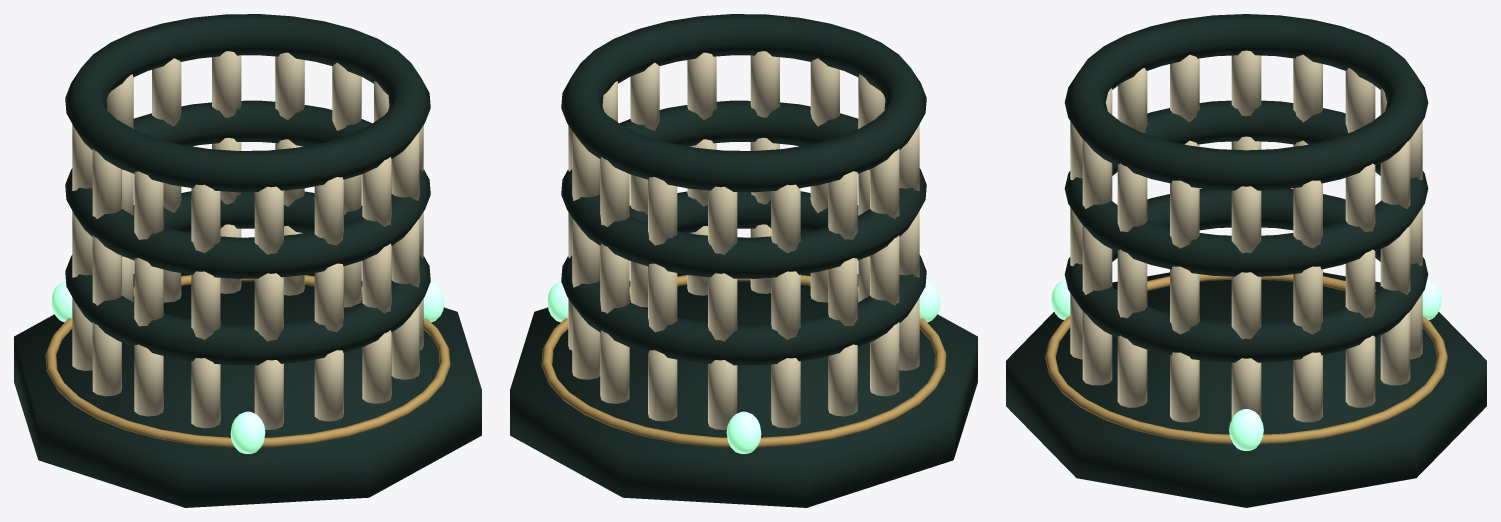
3 views of the same model, side by side, from view 1: azimuth 30°, elevation 25°; view 2: azimuth 150°, elevation 25°; view 3: azimuth 270°, elevation 25° (orthographic).
Visible parts, largest first — view 1: Hexagonal plinth, Colosseum tier.002, Colosseum tier.001, Colosseum tier, Inlaid rim, Arcade pier.010, Arcade pier.012, Arcade pier.009, Arcade pier.013, Arcade pier.011, Arcade pier.008, Arcade pier.027 (+29 smaller); view 2: Hexagonal plinth, Colosseum tier.002, Colosseum tier.001, Colosseum tier, Inlaid rim, Arcade pier.006, Arcade pier.004, Arcade pier.007, Arcade pier.003, Arcade pier.005, Arcade pier.008, Arcade pier.021 (+29 smaller); view 3: Hexagonal plinth, Colosseum tier.002, Colosseum tier.001, Colosseum tier, Inlaid rim, Arcade pier.001, Arcade pier.015, Arcade pier.002, Arcade pier.014, Arcade pier.032, Arcade pier.016, Arcade pier.003 (+28 smaller).
Boxes of the visible parts, x1,y1,x2,y2 form: Hexagonal plinth: (14, 273, 481, 507); Colosseum tier.002: (65, 14, 430, 192); Colosseum tier.001: (65, 100, 430, 278); Colosseum tier: (65, 191, 430, 365); Inlaid rim: (45, 275, 450, 447); Arcade pier.010: (191, 358, 220, 428); Arcade pier.012: (314, 350, 343, 421); Arcade pier.009: (134, 344, 163, 416); Arcade pier.013: (362, 330, 391, 403); Arcade pier.011: (254, 360, 283, 429); Arcade pier.008: (92, 322, 121, 396); Arcade pier.027: (254, 273, 283, 341); Hexagonal plinth: (510, 273, 977, 507); Colosseum tier.002: (561, 14, 926, 192); Colosseum tier.001: (561, 100, 926, 278); Colosseum tier: (561, 191, 926, 365); Inlaid rim: (541, 275, 946, 447); Arcade pier.006: (771, 358, 800, 428); Arcade pier.004: (648, 350, 677, 421); Arcade pier.007: (828, 344, 857, 416); Arcade pier.003: (600, 330, 629, 403); Arcade pier.005: (708, 360, 737, 429); Arcade pier.008: (870, 322, 899, 396); Arcade pier.021: (708, 273, 737, 341); Hexagonal plinth: (1006, 272, 1486, 507); Colosseum tier.002: (1064, 14, 1428, 190); Colosseum tier.001: (1064, 100, 1428, 276); Colosseum tier: (1064, 188, 1428, 362); Inlaid rim: (1045, 274, 1447, 444); Arcade pier.001: (1293, 352, 1322, 422); Arcade pier.015: (1170, 352, 1199, 422); Arcade pier.002: (1345, 335, 1375, 407); Arcade pier.014: (1117, 335, 1147, 407); Arcade pier.032: (1231, 186, 1261, 253); Arcade pier.016: (1231, 272, 1261, 339); Arcade pier.003: (1380, 311, 1410, 385).
Bounding box in the file's own units: 1.52 × 1.12 × 1.52.
